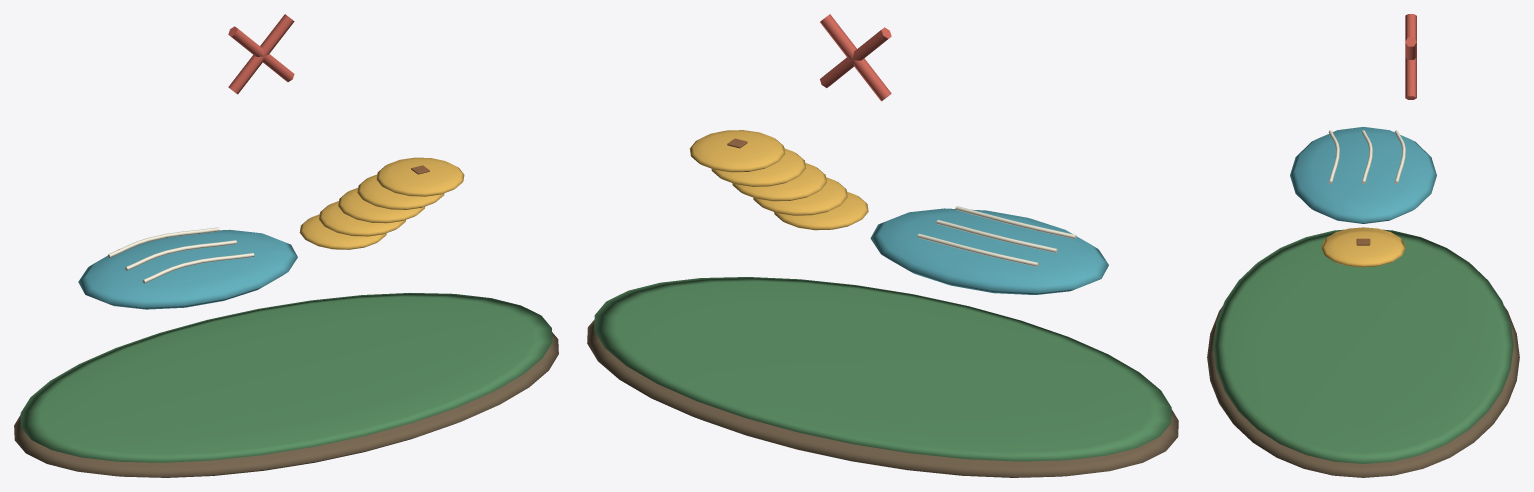
File: complete-third-wave-of-cost.glb
3 renders of one model, left to right at view 1: azimuth 30°, elevation 25°; view 2: azimuth 150°, elevation 25°; view 3: azimuth 270°, elevation 25°, orthographic. The views are drawn at different scales.
Visible parts, largest first — view 1: complete-third-wave-of-cost_surface_01, complete-third-wave-of-cost_surface_02, complete-third-wave-of-cost_surface_00, complete-third-wave-of-cost_surface_04, complete-third-wave-of-cost_surface_06, complete-third-wave-of-cost_surface_03; view 2: complete-third-wave-of-cost_surface_01, complete-third-wave-of-cost_surface_02, complete-third-wave-of-cost_surface_00, complete-third-wave-of-cost_surface_04, complete-third-wave-of-cost_surface_06, complete-third-wave-of-cost_surface_03; view 3: complete-third-wave-of-cost_surface_01, complete-third-wave-of-cost_surface_02, complete-third-wave-of-cost_surface_00, complete-third-wave-of-cost_surface_04, complete-third-wave-of-cost_surface_06, complete-third-wave-of-cost_surface_03.
Boxes of the visible parts, x1=… form: complete-third-wave-of-cost_surface_01: x1=20, y1=293, x2=552, y2=462; complete-third-wave-of-cost_surface_02: x1=78, y1=229, x2=297, y2=309; complete-third-wave-of-cost_surface_00: x1=14, y1=332, x2=558, y2=477; complete-third-wave-of-cost_surface_04: x1=299, y1=157, x2=464, y2=249; complete-third-wave-of-cost_surface_06: x1=228, y1=14, x2=294, y2=94; complete-third-wave-of-cost_surface_03: x1=107, y1=227, x2=254, y2=283; complete-third-wave-of-cost_surface_01: x1=594, y1=277, x2=1171, y2=461; complete-third-wave-of-cost_surface_02: x1=870, y1=208, x2=1108, y2=294; complete-third-wave-of-cost_surface_00: x1=587, y1=319, x2=1178, y2=477; complete-third-wave-of-cost_surface_04: x1=689, y1=130, x2=868, y2=230; complete-third-wave-of-cost_surface_06: x1=820, y1=14, x2=891, y2=101; complete-third-wave-of-cost_surface_03: x1=917, y1=206, x2=1076, y2=266; complete-third-wave-of-cost_surface_01: x1=1213, y1=229, x2=1513, y2=463; complete-third-wave-of-cost_surface_02: x1=1290, y1=127, x2=1436, y2=223; complete-third-wave-of-cost_surface_00: x1=1207, y1=306, x2=1519, y2=477; complete-third-wave-of-cost_surface_04: x1=1321, y1=227, x2=1405, y2=267; complete-third-wave-of-cost_surface_06: x1=1405, y1=14, x2=1416, y2=99; complete-third-wave-of-cost_surface_03: x1=1328, y1=130, x2=1405, y2=184.
Bounding box in the file's own units: 4.56 × 3.06 × 2.5.
